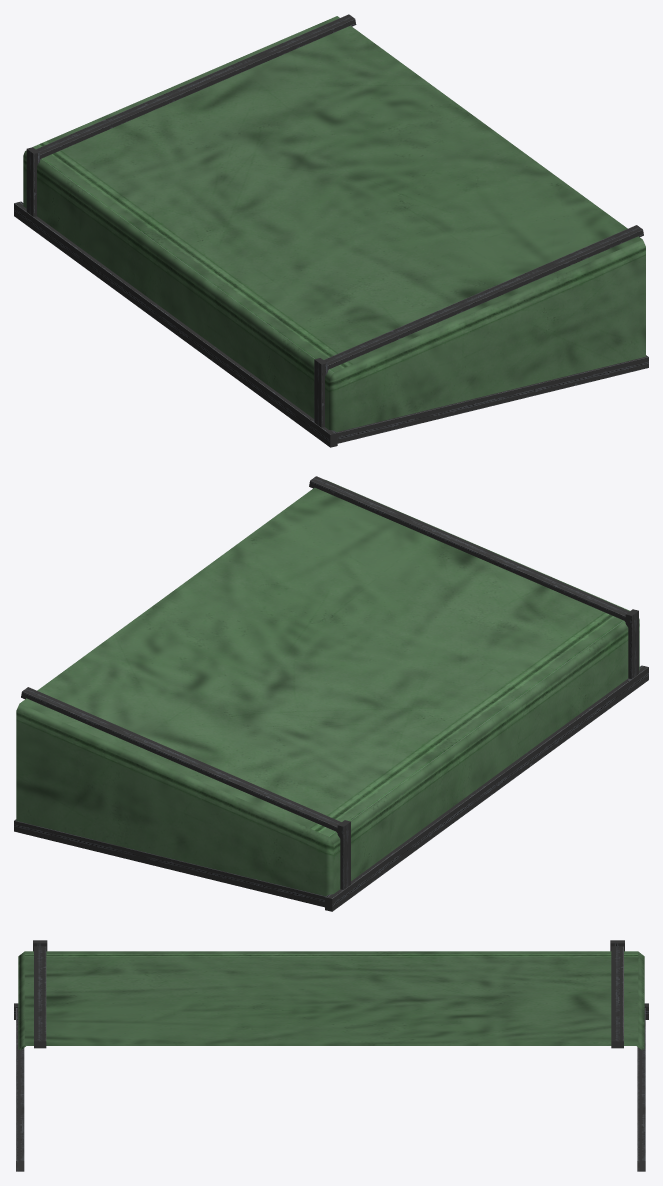
The model's file is CP_Canopy_06.fbx.
3 renders of one model, top to bottom at view 1: azimuth 30°, elevation 25°; view 2: azimuth 150°, elevation 25°; view 3: azimuth 270°, elevation 25°, orthographic.
Visible parts, largest first — view 1: CP_Canopy_06; view 2: CP_Canopy_06; view 3: CP_Canopy_06.
Part boxes in pixels (<box>): CP_Canopy_06: <box>14,14,648,447</box>; CP_Canopy_06: <box>14,476,648,911</box>; CP_Canopy_06: <box>14,940,648,1171</box>.
Bounding box in the file's own units: 266 × 104 × 451.
